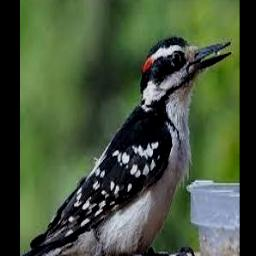Woodpecker: (20, 36, 232, 256)
